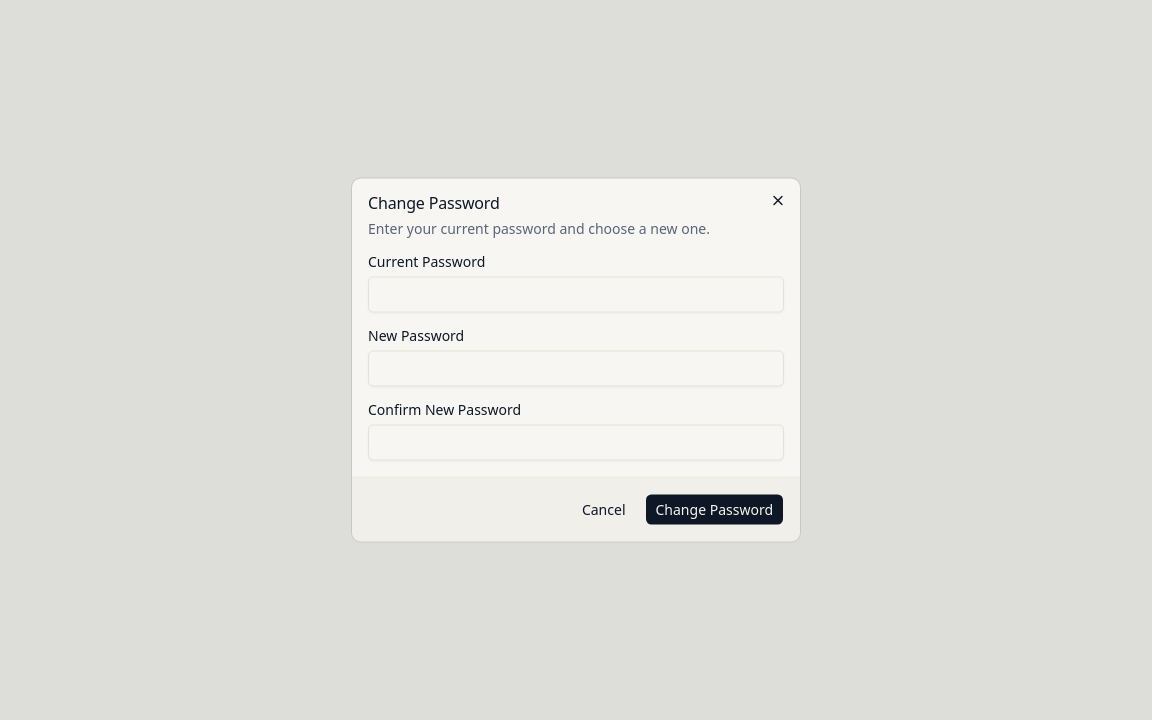
Test: ChangePasswordDialog › blocks submit and shows an error when confirmation doesn't match
Type "OldPass123!" into the password field labelled "Current Password".
click(576, 294); type("OldPass123!")  # box [368,276,784,312]
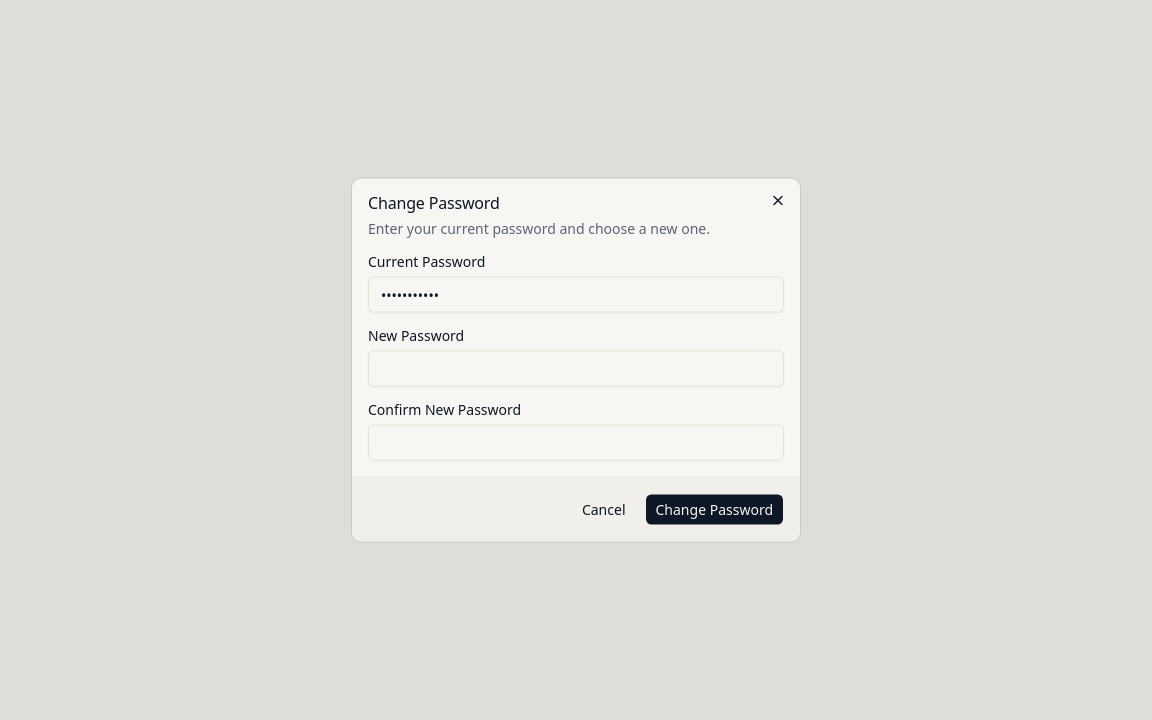
Type "NewPass456!" into the password field labelled "New Password".
click(576, 368); type("NewPass456!")  # box [368,350,784,386]
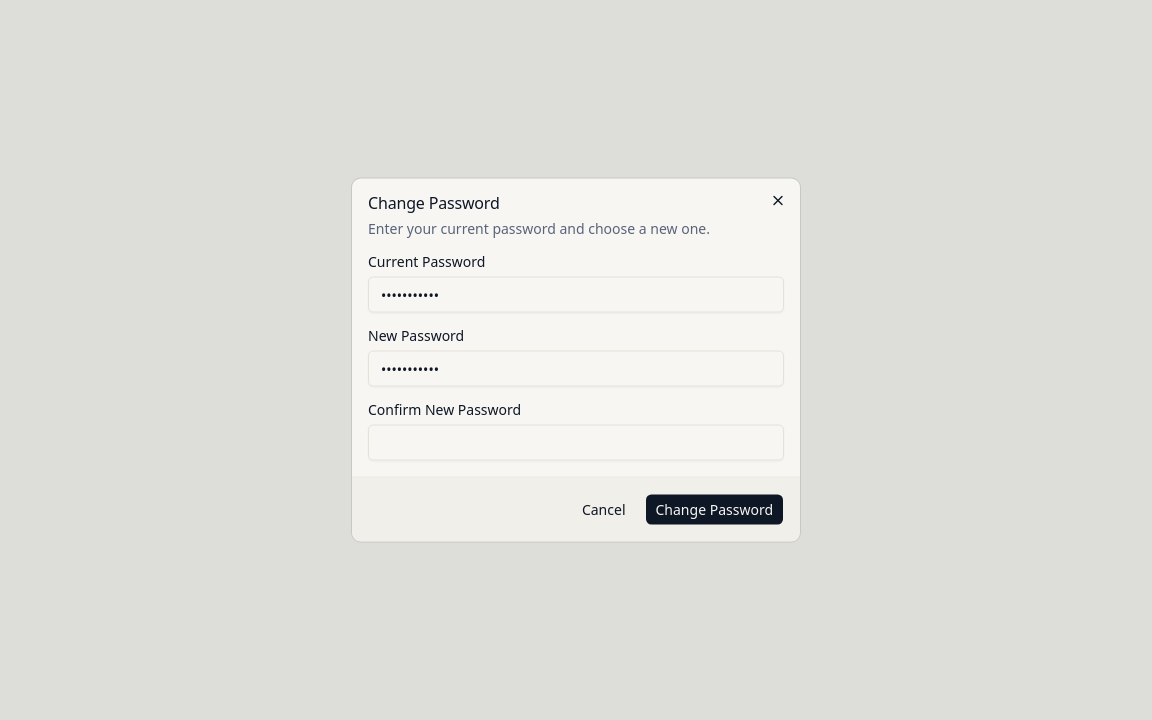
Type "Different9!" into the password field labelled "Confirm New Password".
click(576, 442); type("Different9!")  # box [368,424,784,460]
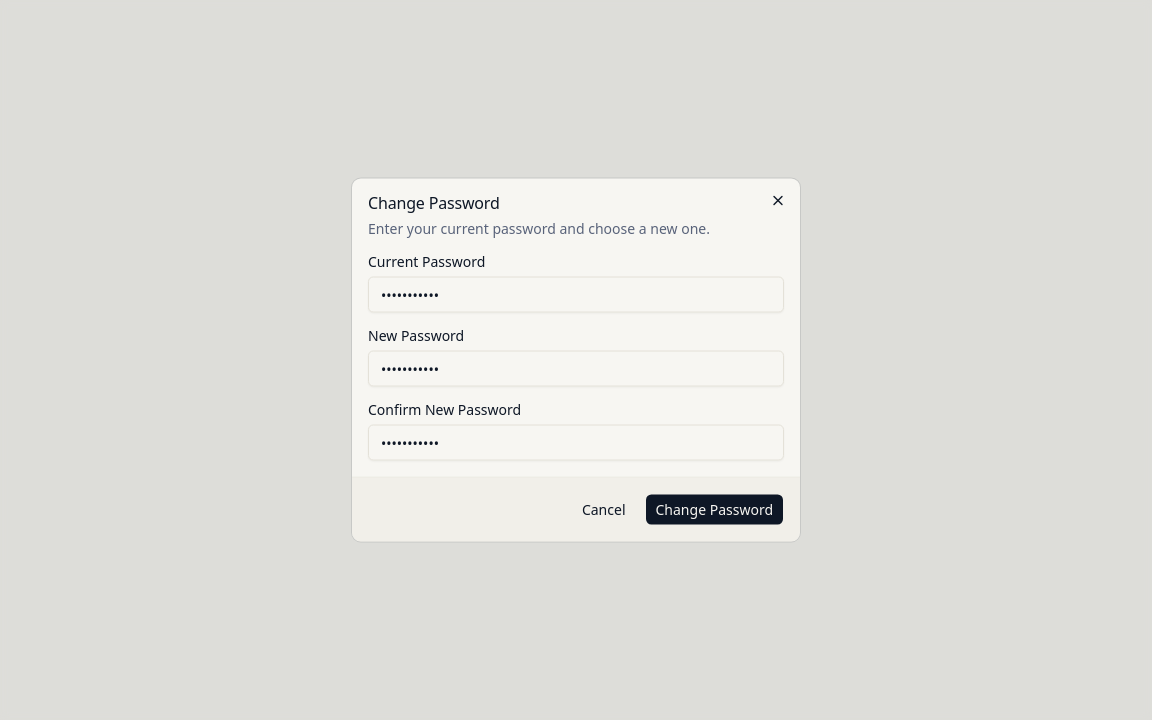
Click the button "Change Password".
click(714, 510)  # box [644,494,784,526]
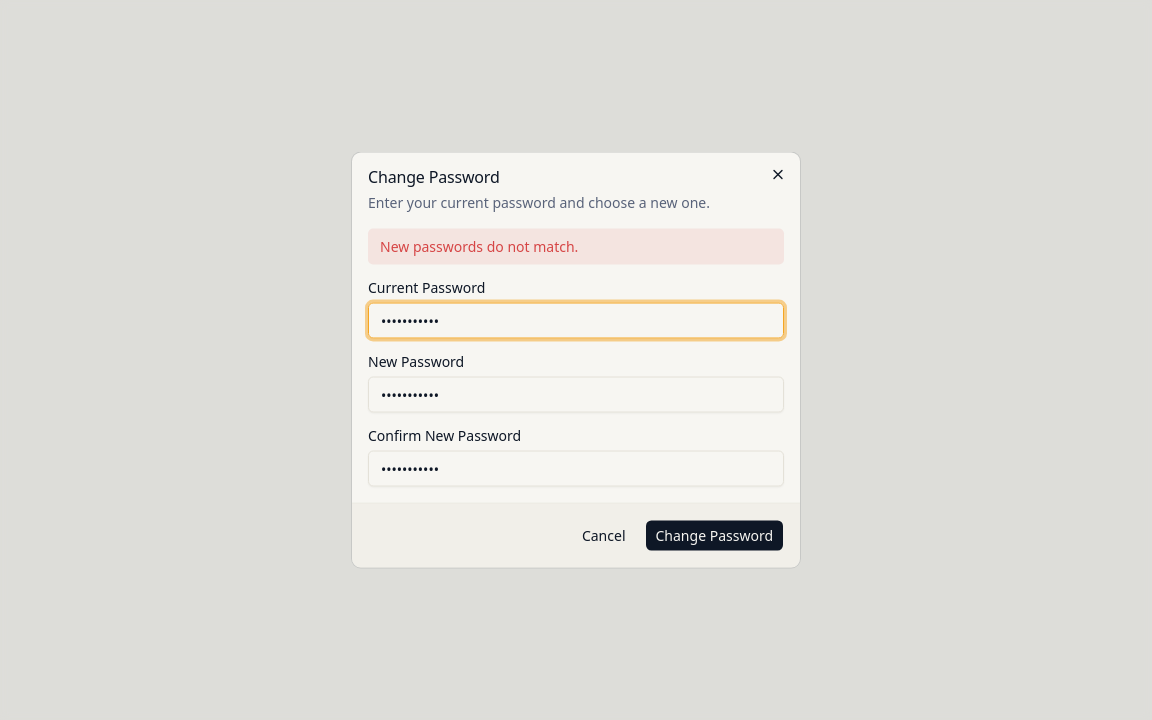
Now the message shows "do not match", box [380,236,578,256]
